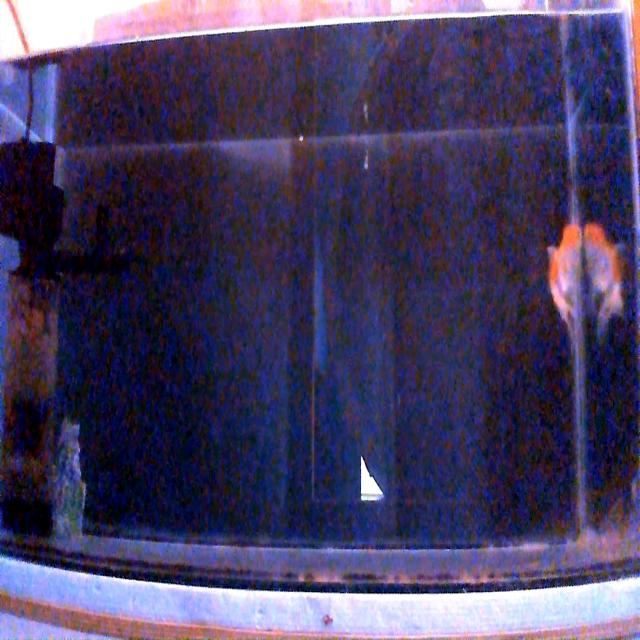fish: (583, 223, 621, 328), (548, 224, 581, 322)
